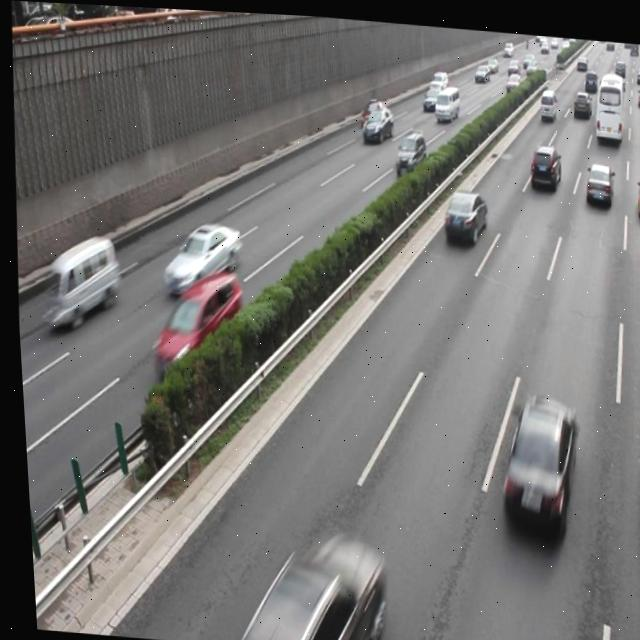car: (237, 522, 378, 640), (487, 385, 574, 536), (142, 261, 239, 377), (156, 214, 240, 300), (437, 182, 485, 239), (525, 136, 559, 187), (629, 410, 640, 557), (392, 125, 425, 170), (579, 154, 610, 201), (358, 102, 391, 141), (357, 93, 384, 124), (630, 165, 640, 212)
truck: (34, 230, 119, 332)
